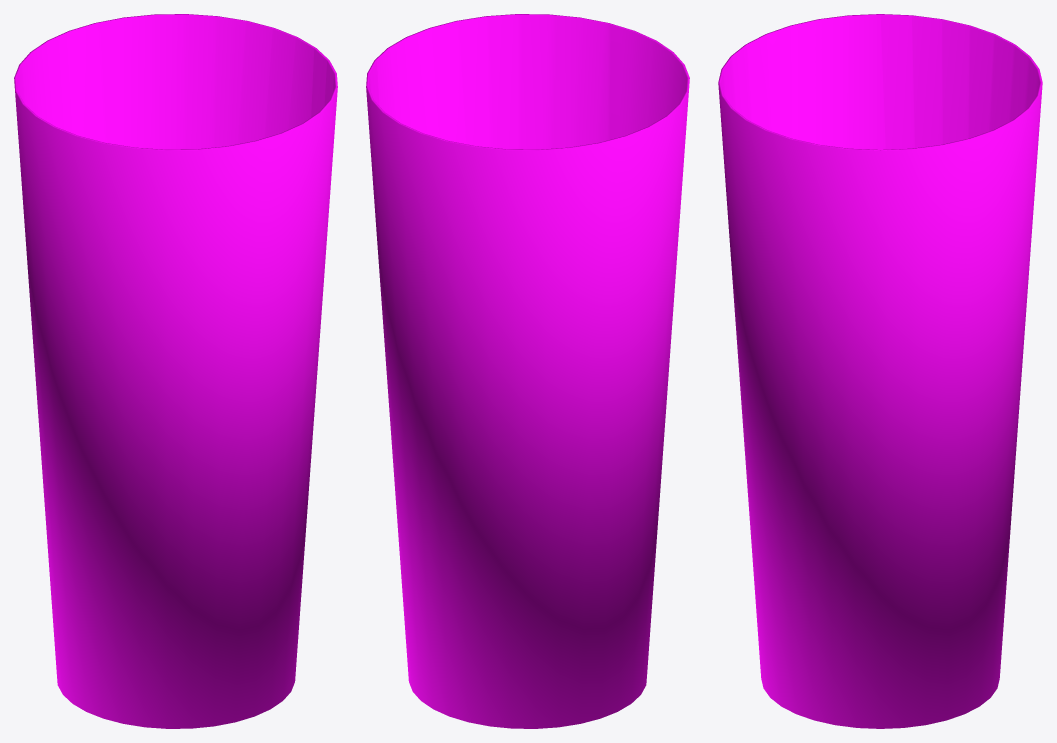
Rendered from pink_cup.glb.
The picture shows the model from 3 angles, left to right: view 1: azimuth 30°, elevation 25°; view 2: azimuth 150°, elevation 25°; view 3: azimuth 270°, elevation 25°; orthographic projection.
Visible parts, largest first — view 1: Cylinder_Cylinder.003; view 2: Cylinder_Cylinder.003; view 3: Cylinder_Cylinder.003.
Part boxes in pixels (bbox=[...]): Cylinder_Cylinder.003: bbox=[14, 14, 337, 728]; Cylinder_Cylinder.003: bbox=[366, 14, 689, 728]; Cylinder_Cylinder.003: bbox=[718, 14, 1042, 728].
Bounding box in the file's own units: 2.13 × 4.31 × 2.13.
